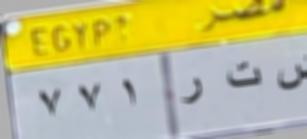1: (118, 75, 142, 110)
7: (76, 77, 108, 117), (36, 84, 65, 121)
raa: (180, 71, 208, 111)
taa: (224, 61, 263, 91)
